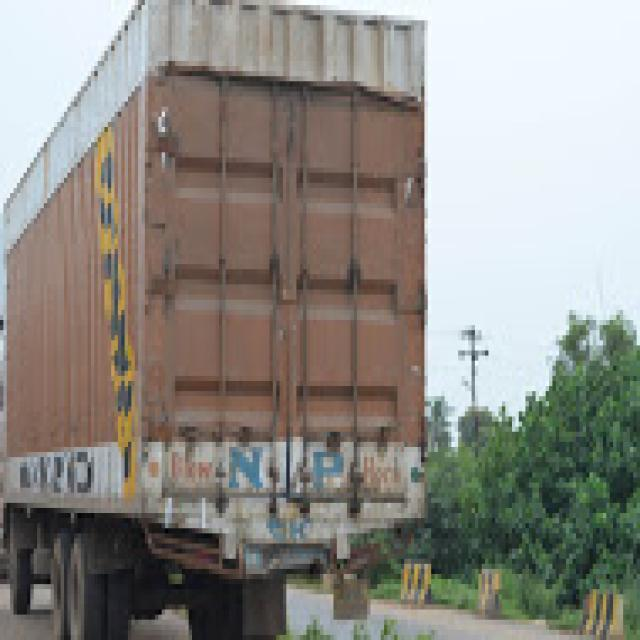truck_back: (0, 0, 434, 635)
